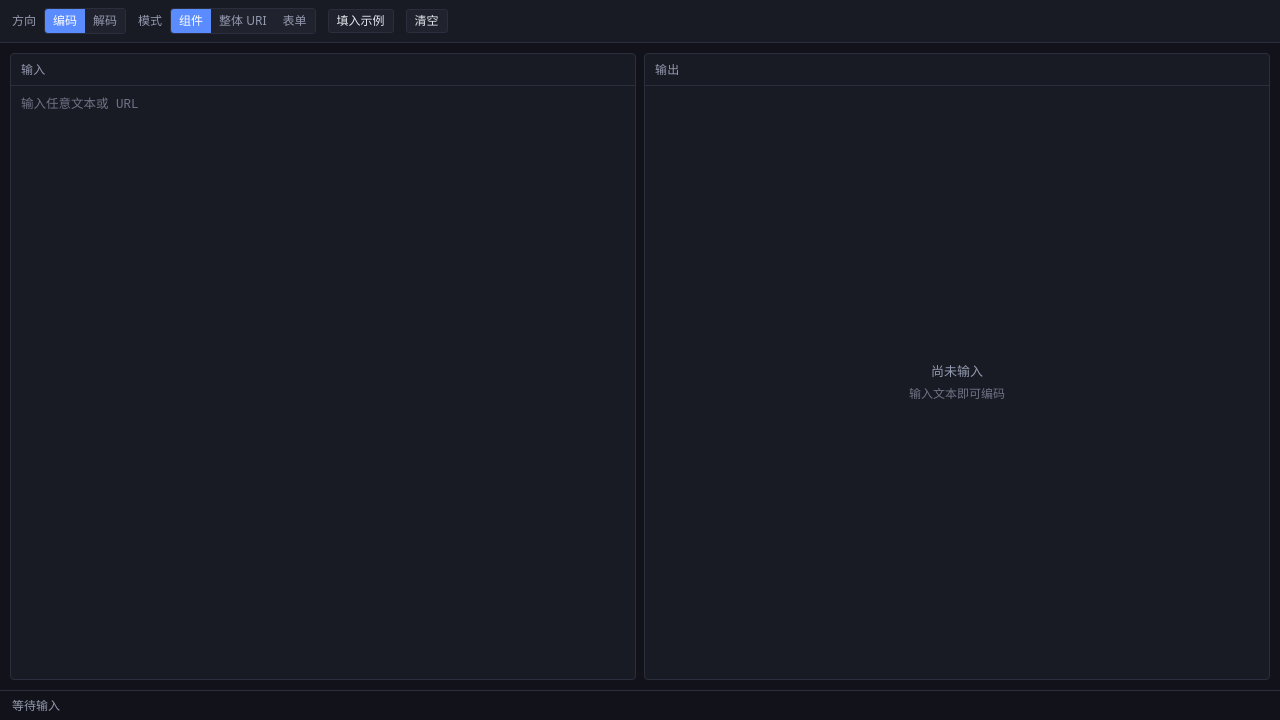
URL 编码/解码工具 › %ZZ 提示非法转义
This screenshot has width=1280, height=720.
Step 1. Click the button "解码" → (105, 21), box x1=85 y1=9 x2=125 y2=33
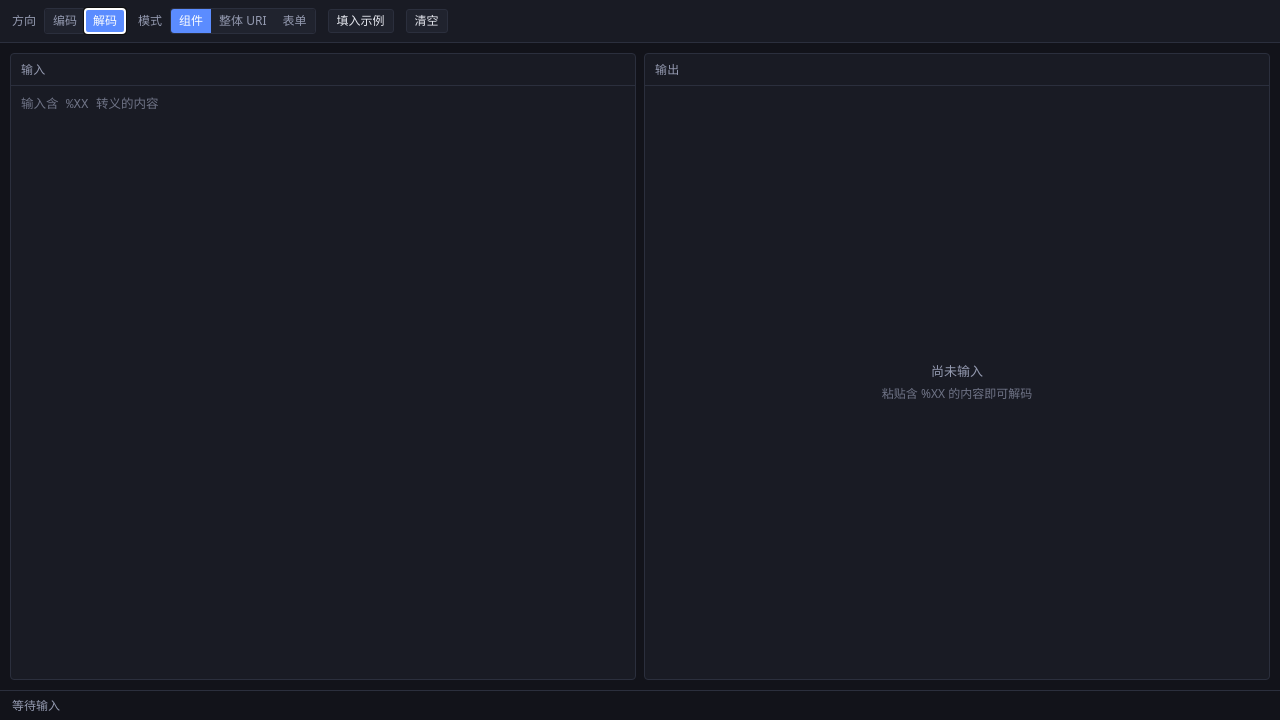
Step 2. Type "%ZZ" into the text box named "待处理的文本" → (323, 190), box x1=11 y1=86 x2=635 y2=294
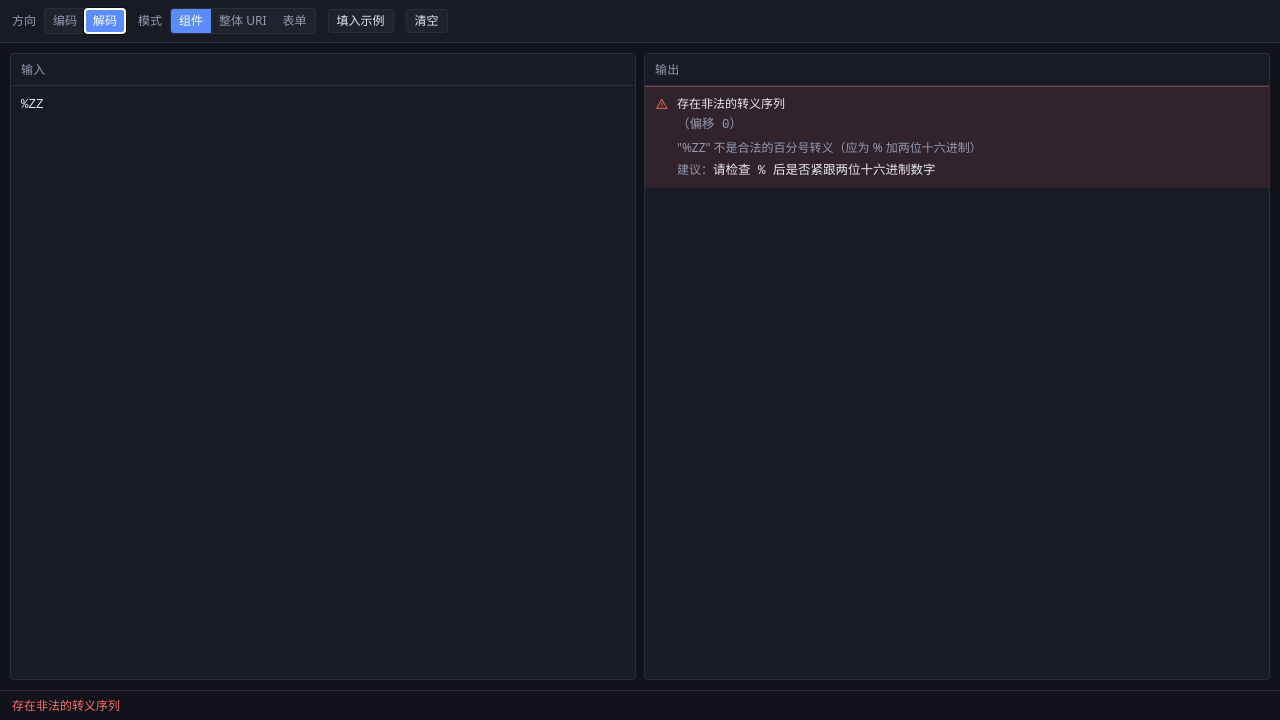
Check: the message shows "非法的转义序列", box x1=677 y1=95 x2=785 y2=112
